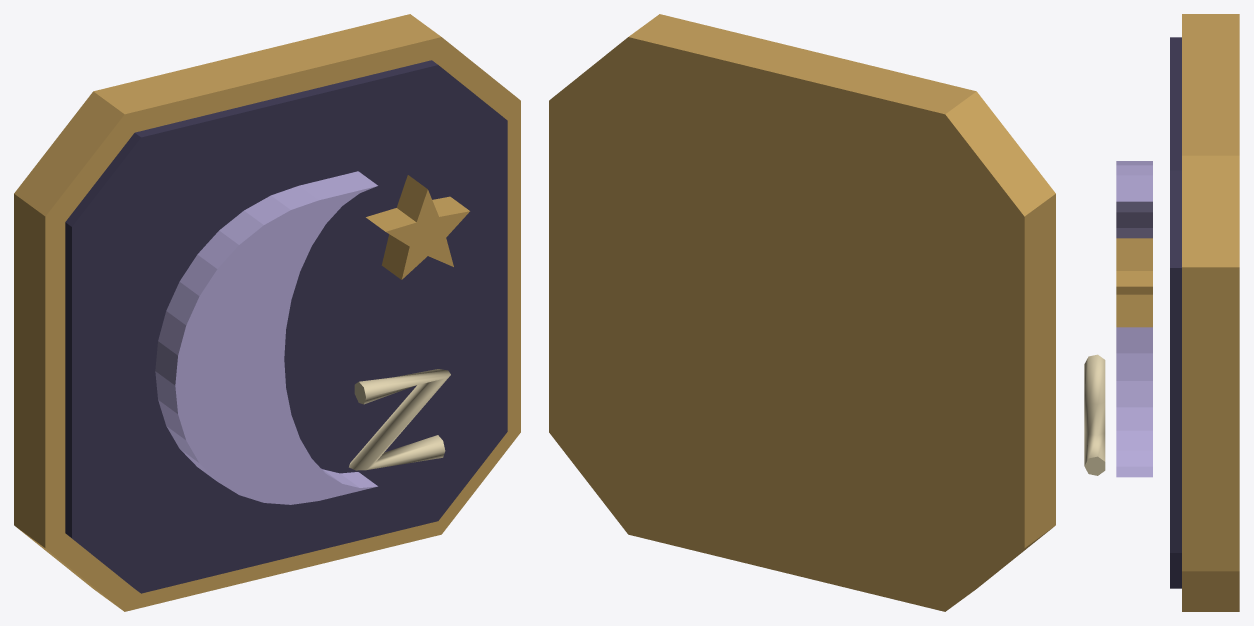
File: sleep.fbx
The picture shows the model from 3 angles, left to right: view 1: azimuth 30°, elevation 25°; view 2: azimuth 150°, elevation 25°; view 3: azimuth 270°, elevation 25°; orthographic projection. The views are drawn at different scales.
Visible parts, largest first — view 1: sleep; view 2: sleep; view 3: sleep.
Part boxes in pixels (box(x1,y1,x2,y2)): sleep: box(14, 14, 520, 611); sleep: box(549, 14, 1055, 611); sleep: box(1084, 14, 1239, 611).
Size of the model in its own units: 0.96 by 0.96 by 0.296.
